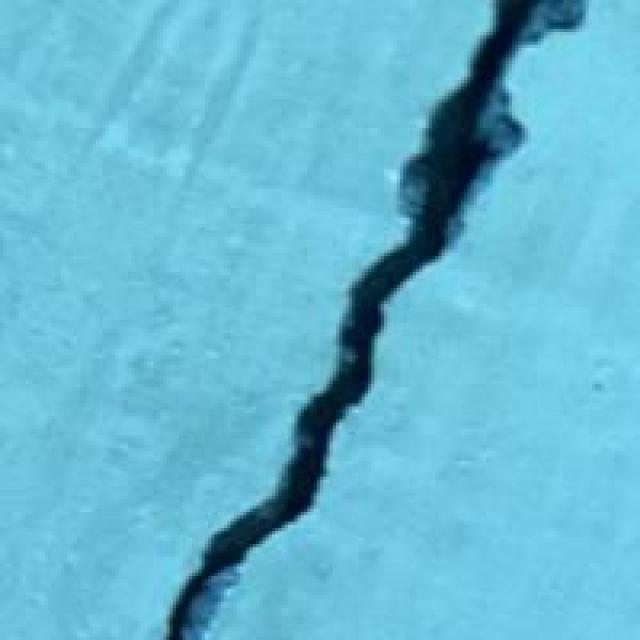Crack: (125, 0, 624, 637)
